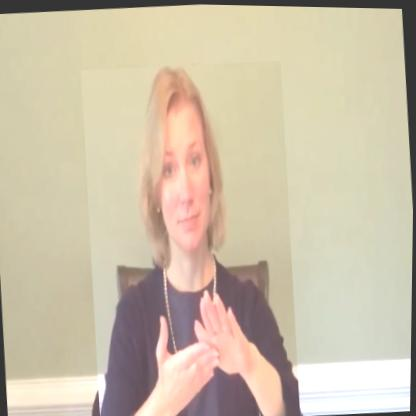NiceToMeetYou: (77, 55, 305, 416)
